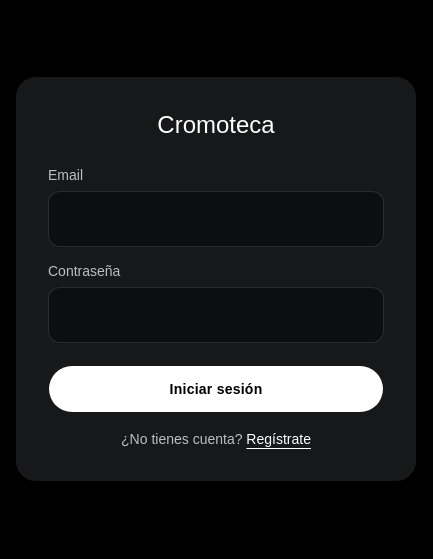
it: RegisterForm — R-AUTH-02 client-only passwordRepeat › blocks a mismatched repeat BEFORE any HTTP request
The image size is (433, 559).
Click the button "Regístrate" at point(279, 439), box [246,429,311,449]
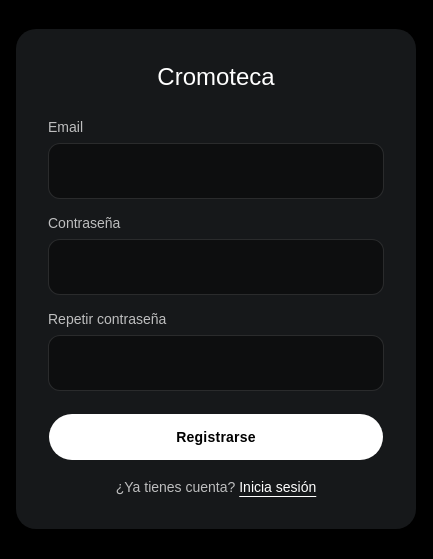
Type "user@example.com" into the field labelled "Email" at point(216, 171), box [48,143,384,199]
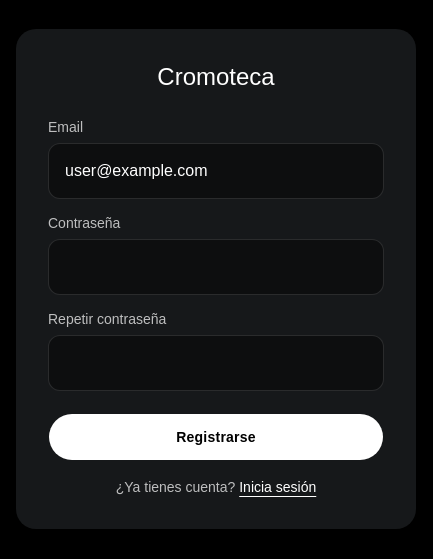
Type "Secret1!" into the password field labelled "Contraseña" at point(216, 267), box [48,239,384,295]
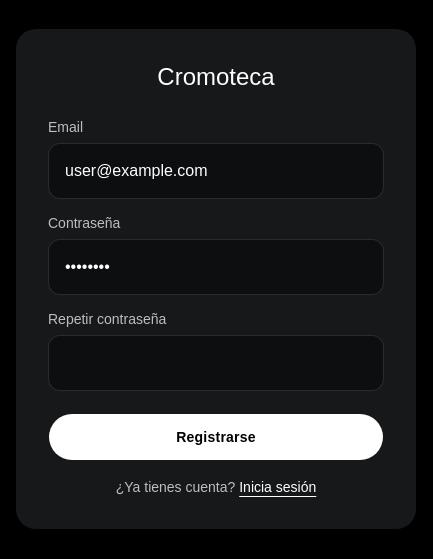
Type "Secret2!" into the password field labelled "Repetir contraseña" at point(216, 363), box [48,335,384,391]
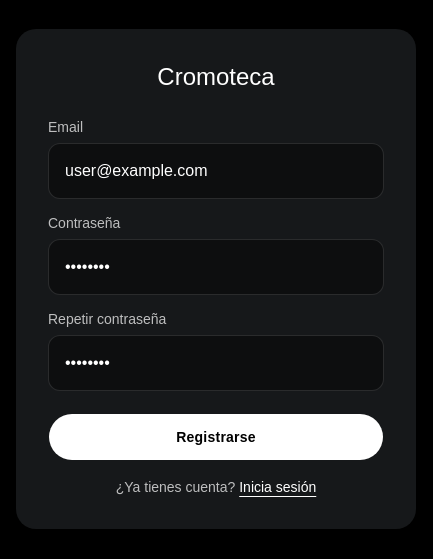
Click the button "Registrarse" at point(216, 437), box [48,413,384,461]
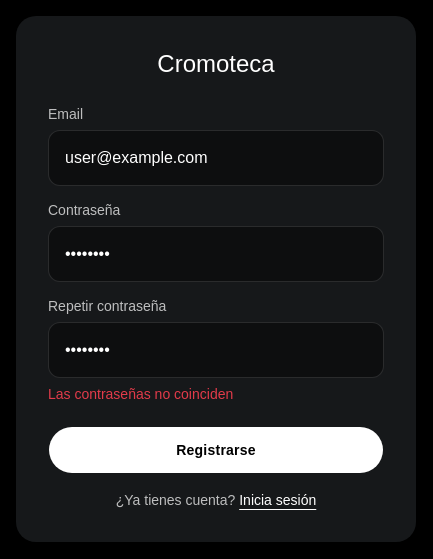
Expected: the message shows "no coinciden", [48,386,233,402]
